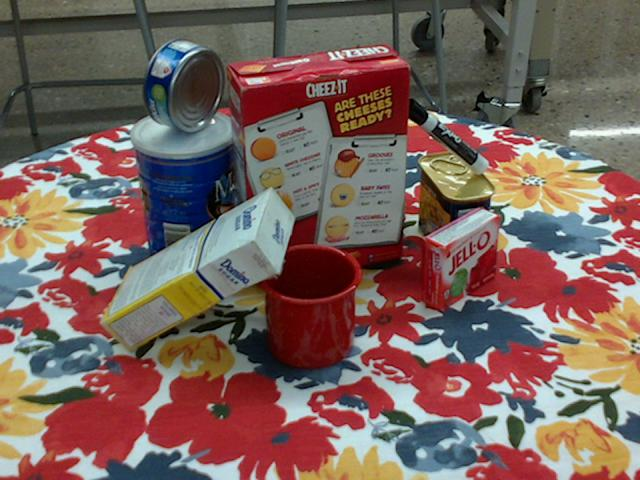cracker_box: (225, 44, 412, 285)
gelatin_box: (422, 206, 502, 311)
large_marker: (402, 97, 490, 173)
master_chef_can: (132, 109, 241, 276)
mug: (255, 241, 362, 368)
mustard_bottle: (351, 45, 407, 228)
potted_meat_can: (420, 151, 497, 265)
sugar_box: (96, 186, 294, 353)
tomato_soup_can: (265, 109, 327, 214)
tuna_fish_can: (143, 38, 223, 131)
